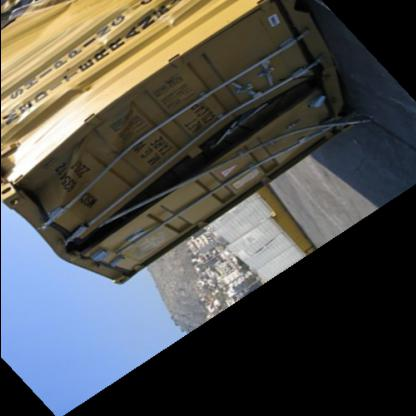Damage: (74, 64, 314, 250)
